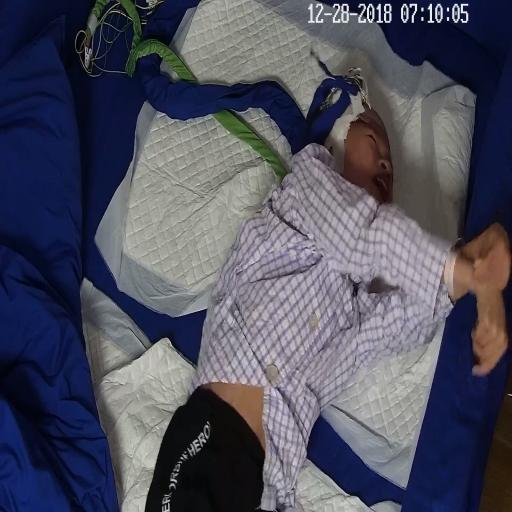Seizure: (338, 98, 395, 201)
